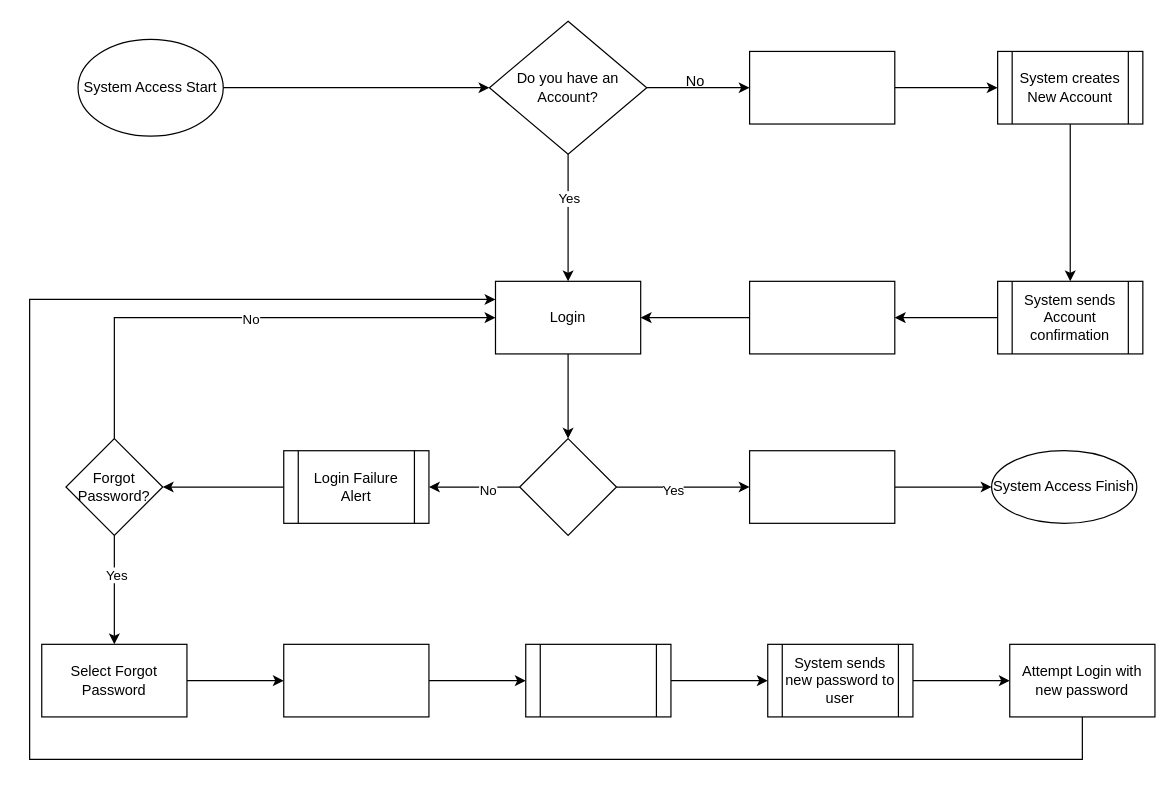
The diagram is 1176 pixels wide and 790 high, and some of its shapes have lost their labels. Here are the shapes that lost their labels. From the top down, the centre of each, then its label:
pixel 821 87: Create Account
pixel 821 317: User verifies Account details
pixel 567 486: Login Success?
pixel 821 486: View Dashboard
pixel 356 680: Provide email address
pixel 598 680: System creates new password
